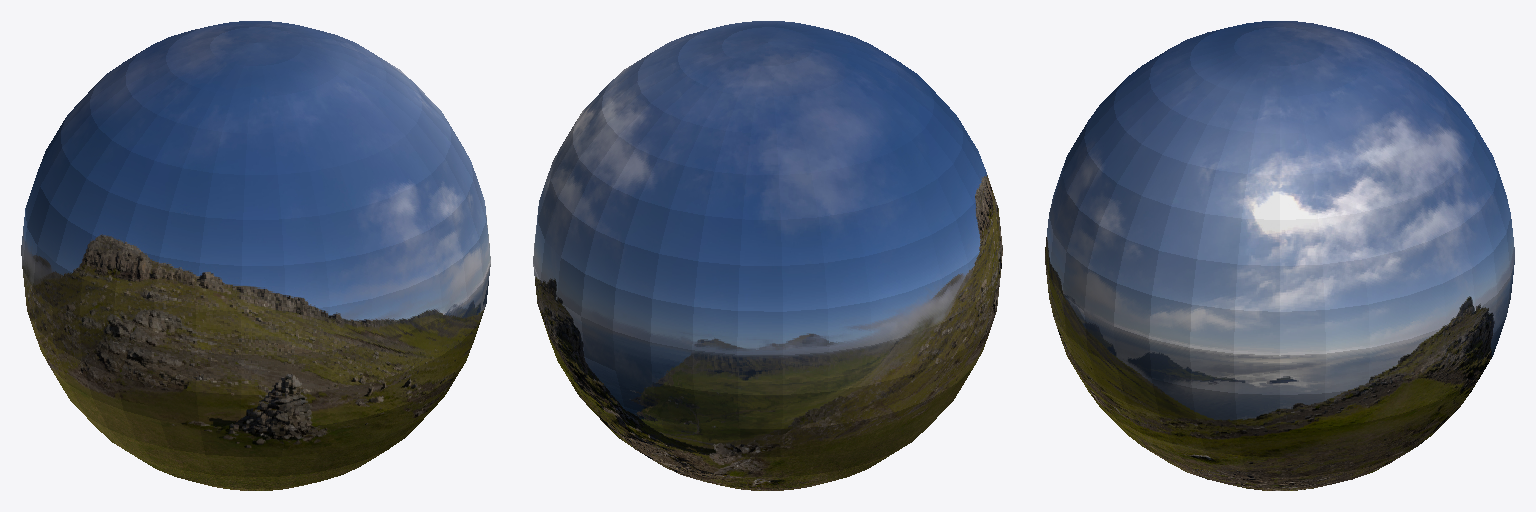
3 renders of one model, left to right at view 1: azimuth 30°, elevation 25°; view 2: azimuth 150°, elevation 25°; view 3: azimuth 270°, elevation 25°, orthographic.
Visible parts, largest first — view 1: 球; view 2: 球; view 3: 球.
Part boxes in pixels (left/top/right/bottom): 球: left=21, top=21, right=490, bottom=490; 球: left=533, top=21, right=1002, bottom=490; 球: left=1045, top=21, right=1514, bottom=490.
Size of the model in its own units: 2 by 2 by 2.
Materials: 1 (1 with a texture image).